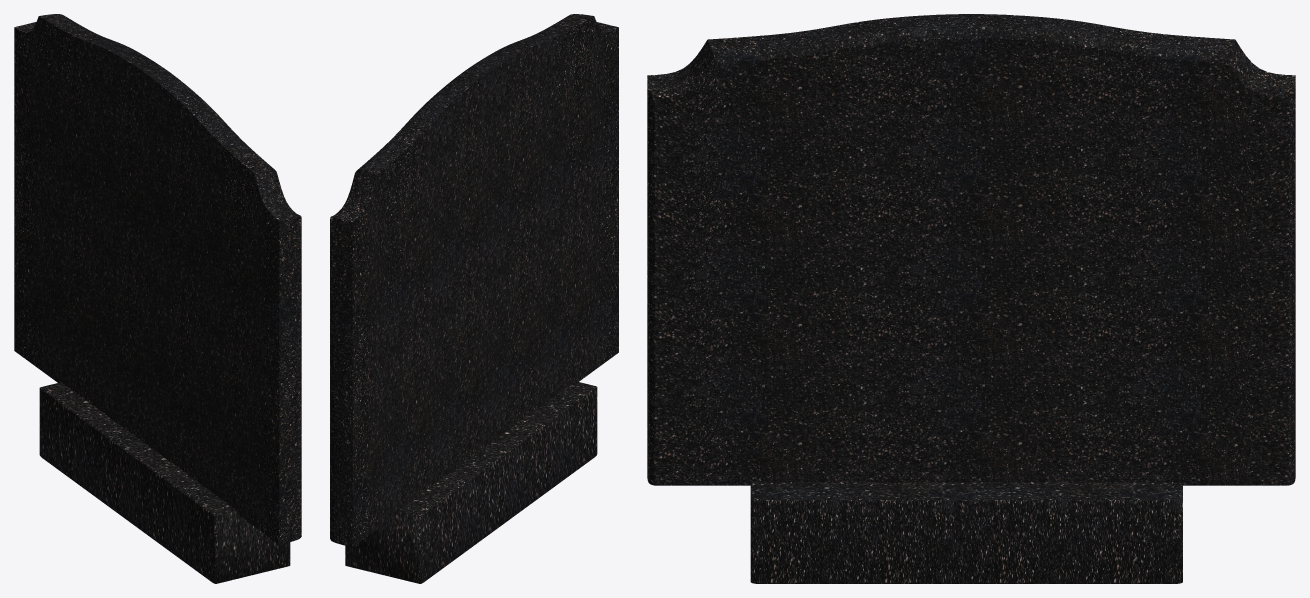
The model's file is Семейный 2.glb.
3 views of the same model, side by side, from view 1: azimuth 30°, elevation 25°; view 2: azimuth 150°, elevation 25°; view 3: azimuth 270°, elevation 25° (orthographic). The views are drawn at different scales.
Visible parts, largest first — view 1: Cube.134, Куб.002; view 2: Cube.134, Куб.002; view 3: Cube.134, Куб.002.
Boxes of the visible parts, box(x1,y1,x2,y2) form: Cube.134: box(14, 14, 301, 544); Куб.002: box(39, 382, 290, 583); Cube.134: box(330, 14, 618, 547); Куб.002: box(345, 381, 597, 583); Cube.134: box(647, 14, 1295, 485); Куб.002: box(750, 482, 1182, 583).
Bounding box in the file's own units: 0.15 × 0.8239 × 0.9.
2 materials, 2 textured.
